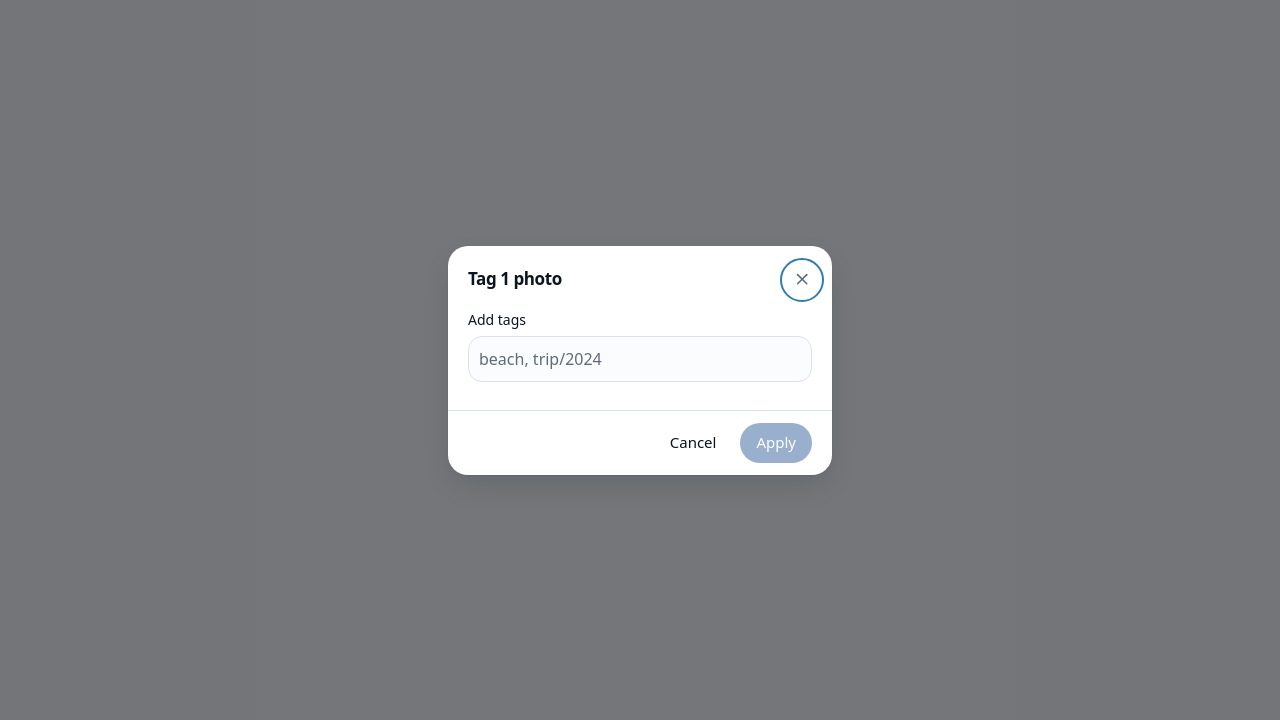
Test case: TagDialog › shows a failure and keeps the dialog open
Step 1. Type "x" into the dropdown labelled "Add tags" → {"x": 640, "y": 358}, box [479,342,801,374]
Then press Enter
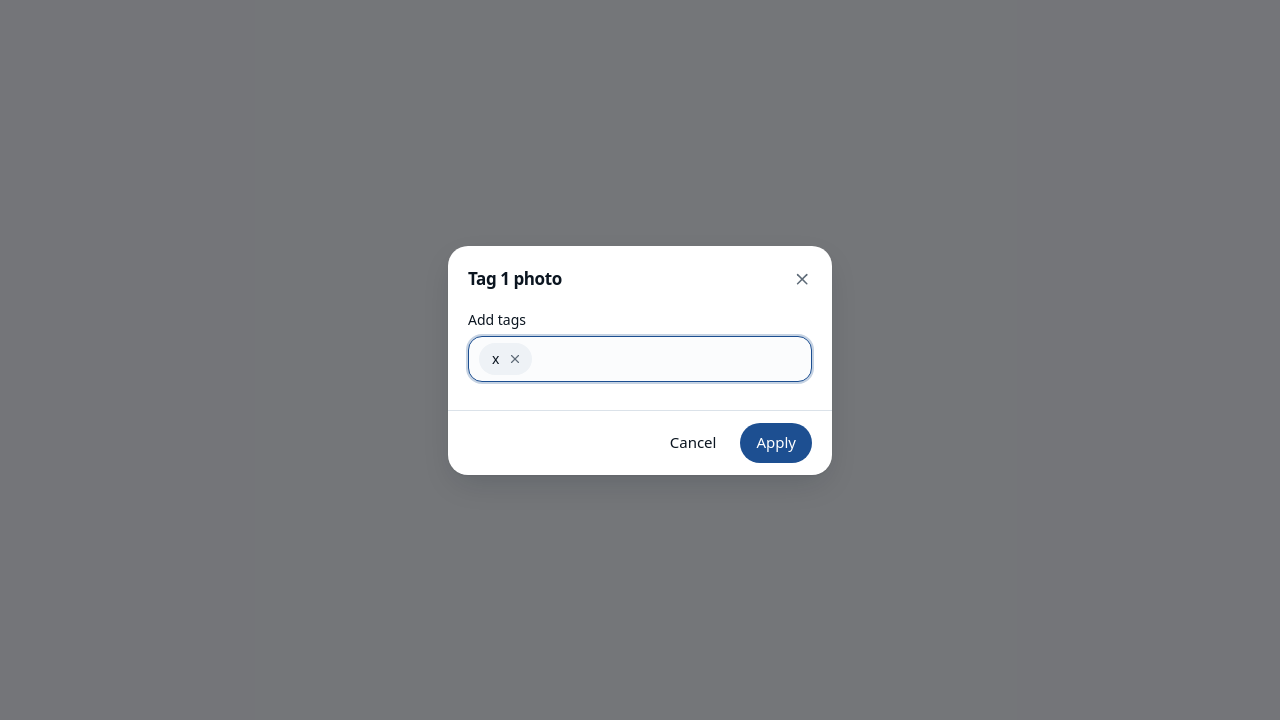
Step 2. Click the button "Apply" → {"x": 776, "y": 442}, box [740,422,812,462]
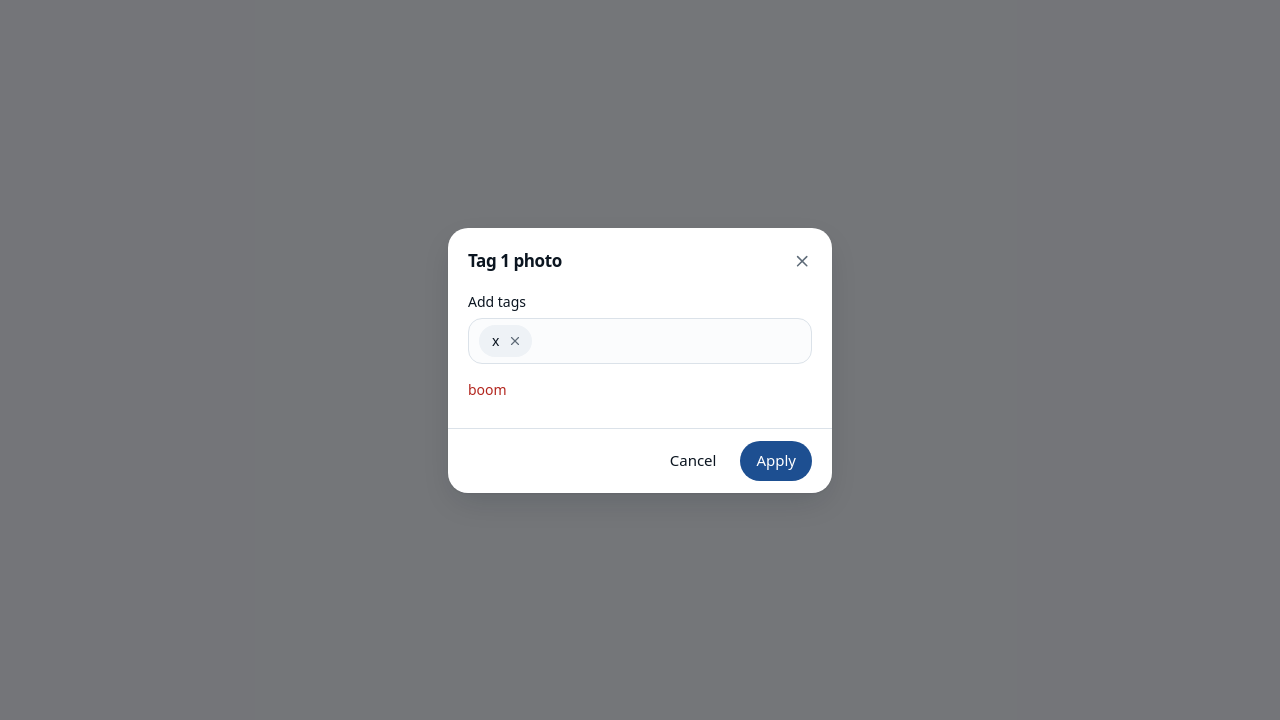
expect the message reads "boom": met, box [468,380,507,398]
